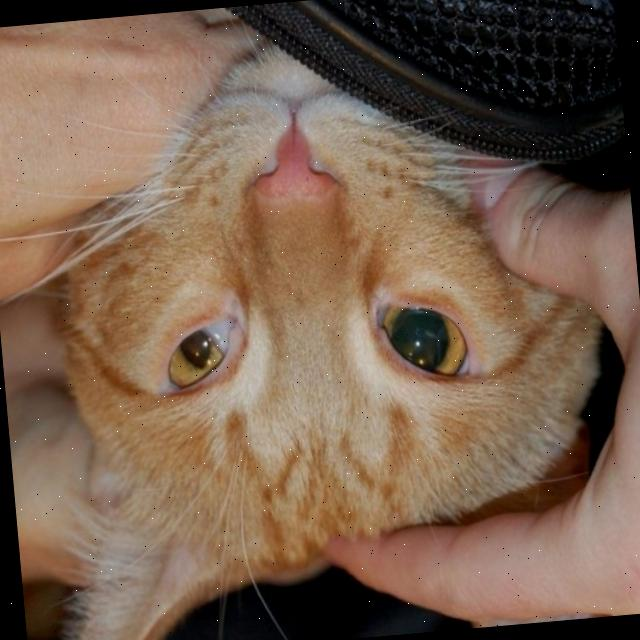cat-eye: (160, 296, 272, 399)
cat-eye-normal: (354, 280, 492, 394)
